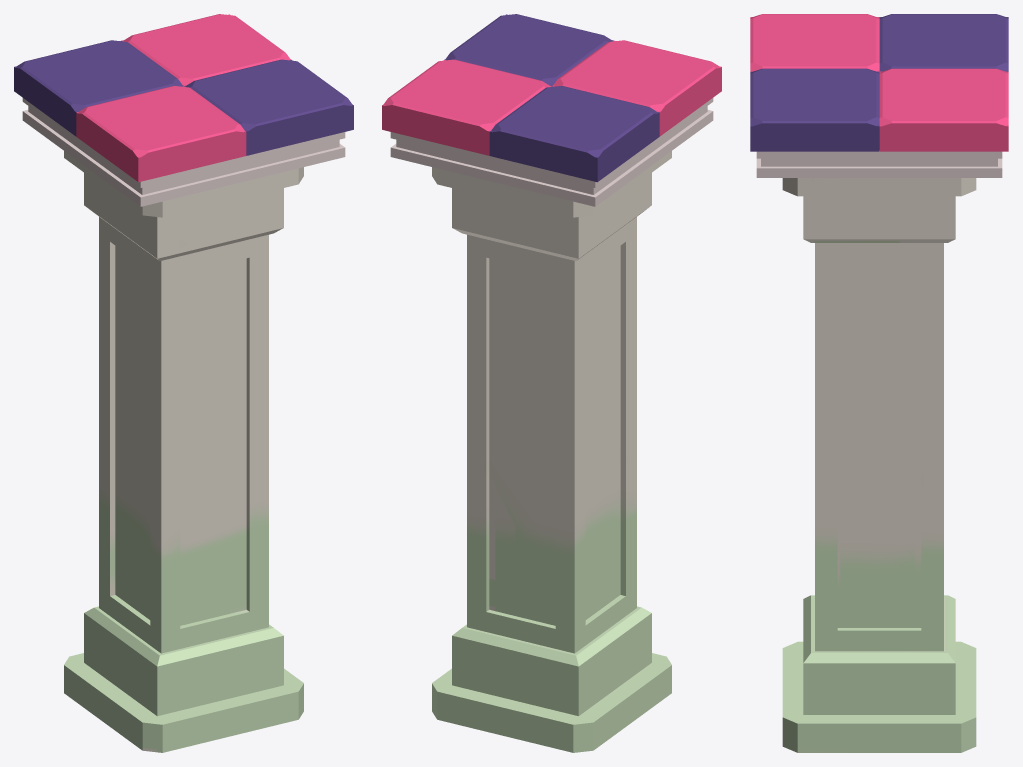
File: column _v2.fbx
3 views of the same model, side by side, from view 1: azimuth 30°, elevation 25°; view 2: azimuth 150°, elevation 25°; view 3: azimuth 270°, elevation 25° (orthographic). The views are drawn at different scales.
Visible parts, largest first — view 1: Cube.053, Cube.051, Cube.052; view 2: Cube.053, Cube.051, Cube.052; view 3: Cube.053, Cube.051, Cube.052.
Boxes of the visible parts, x1,y1,x2,y2 form: Cube.053: [64, 151, 303, 752]; Cube.051: [14, 14, 353, 182]; Cube.052: [22, 98, 345, 206]; Cube.053: [432, 151, 671, 752]; Cube.051: [382, 14, 721, 182]; Cube.052: [390, 98, 713, 206]; Cube.053: [782, 178, 976, 752]; Cube.051: [750, 14, 1008, 151]; Cube.052: [756, 150, 1002, 177].
Size of the model in its own units: 200 by 550 by 200.
